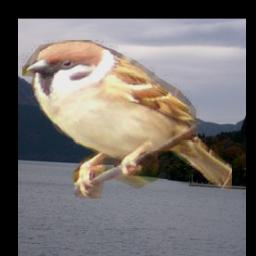Sparrow: (23, 41, 233, 199)
